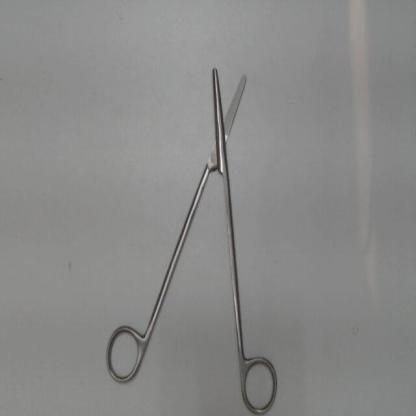9 Metzenbaum Scissors: (100, 59, 288, 414)
